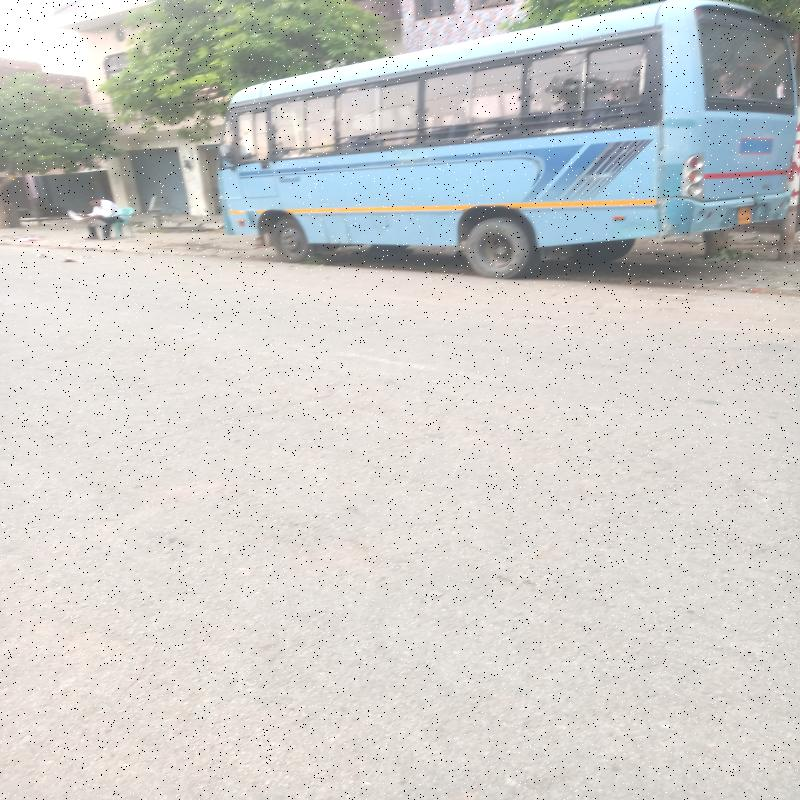bus: (201, 11, 786, 248)
